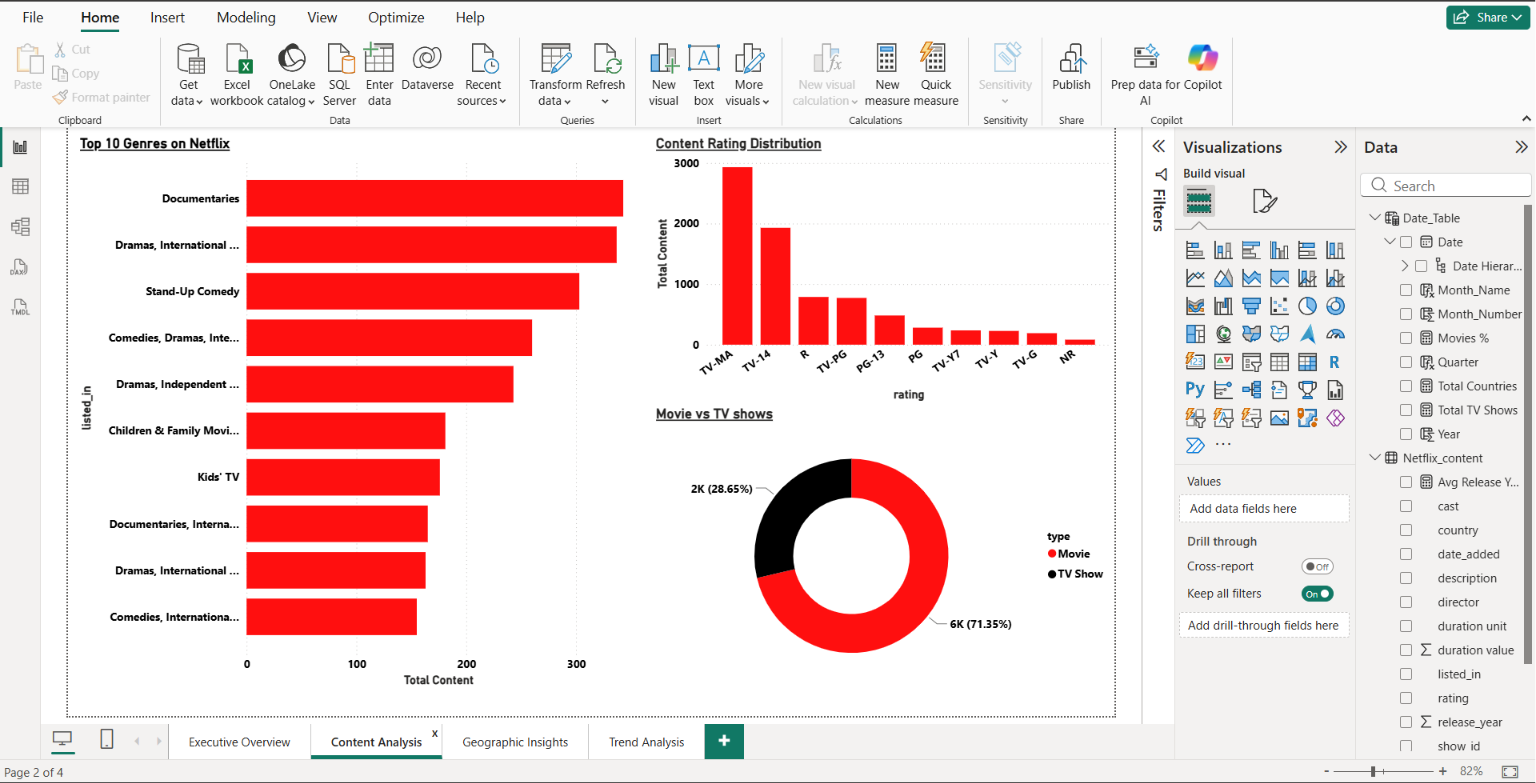

The page's visual inventory and layout, read from the dashboard file:
{"tool":"powerbi","page":{"name":"Content Analysis","canvas":[1280,720],"ordinal":1},"visuals":[{"type":"clusteredBarChart","title":"Top 10 Genres on Netflix","fields":{"Category":["Netflix_content.listed_in"],"Y":["Netflix_content.Total Content"]},"box":[9.8,9.8,695.8,679.9],"z":0},{"type":"clusteredColumnChart","title":"Content Rating Distribution ","fields":{"Category":["Netflix_content.rating"],"Y":["Netflix_content.Total Content"]},"box":[714.1,9.8,566.2,330.2],"z":1000},{"type":"donutChart","title":"Movie vs TV shows ","fields":{"Category":["Netflix_content.type"],"Y":["Netflix_content.Total Content"]},"box":[714.1,339.9,566.2,349.7],"z":2000}]}

Visuals, with their boxes on the page's 1280x720 design canvas (x1, y1, x2, y2). These are canvas units, not pixel positions in the 1536x783 screenshot, which may show the page scaled, cropped or inside an application window:
"Top 10 Genres on Netflix" clusteredBarChart: <region>10, 10, 706, 690</region>
"Content Rating Distribution " clusteredColumnChart: <region>714, 10, 1280, 340</region>
"Movie vs TV shows " donutChart: <region>714, 340, 1280, 690</region>
